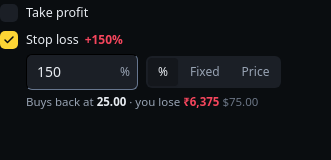
the stop, in percent › past 2000% is a typo, and says so
Replace the text in the field named "stop percent" with "2500": (82, 72) 26,54 -> 138,90
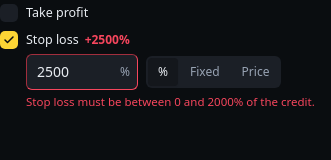
Expected: the message shows "2000%", 26,94 -> 315,108
